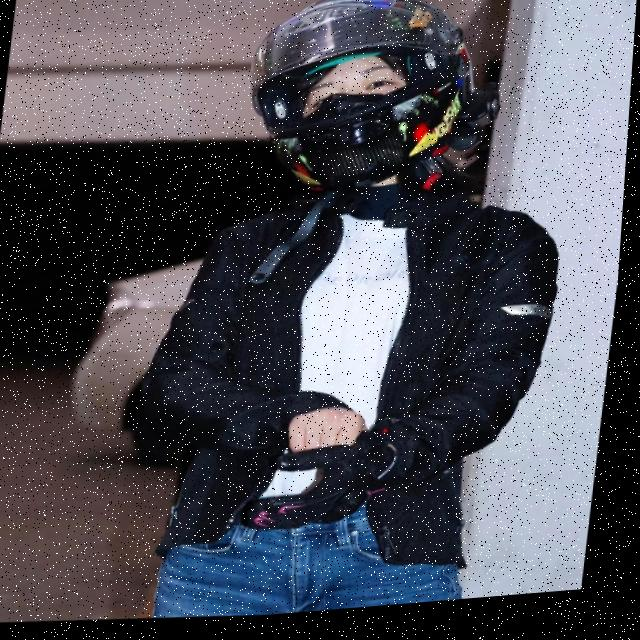helmet: (228, 0, 493, 222)
